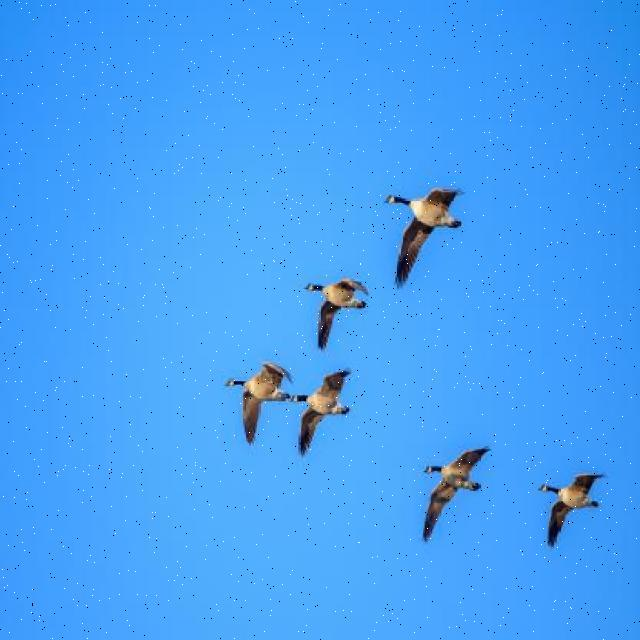bird: (383, 186, 465, 292), (422, 447, 492, 544), (223, 359, 294, 447), (290, 368, 353, 458), (538, 474, 606, 551), (305, 276, 370, 352)
